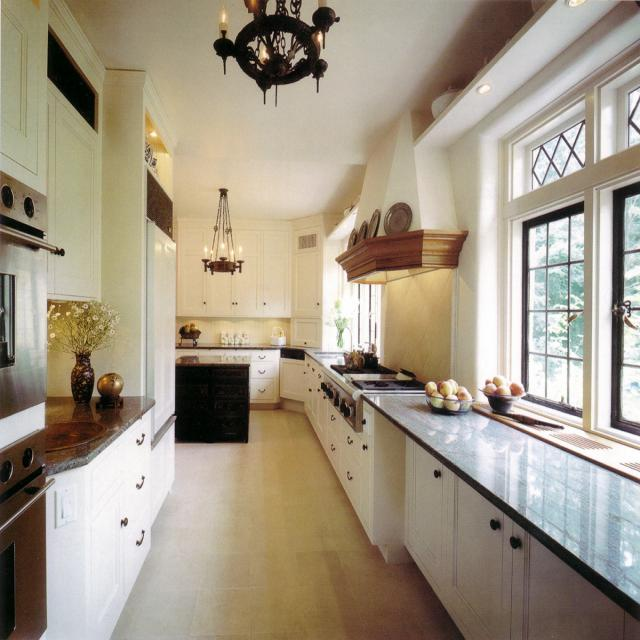2001: (522, 200, 587, 414), (612, 181, 639, 434), (531, 118, 583, 186), (627, 89, 638, 142)
2011: (353, 284, 381, 358)
basket crop: (269, 325, 286, 345)
bowl -X: (429, 84, 461, 119)
bowl of garlic: (177, 323, 201, 344)
bowl of potatoes: (478, 373, 523, 413), (422, 378, 473, 412)
cabinet door: (291, 226, 321, 315), (290, 320, 321, 348)
cabinets: (402, 437, 638, 636), (41, 408, 174, 639), (305, 353, 410, 562), (46, 79, 103, 297), (175, 215, 292, 316), (1, 0, 49, 191)
ceiling beam: (67, 1, 544, 218)
ceiling vent: (150, 130, 157, 137)
chandelier: (211, 1, 340, 107), (200, 187, 242, 274)
containers -x: (219, 331, 249, 343)
countertop: (361, 393, 639, 622), (46, 393, 155, 469), (175, 342, 289, 348)
decorative plate: (383, 201, 412, 233)
decorative plates: (347, 207, 379, 248)
dishwasher: (278, 348, 303, 401)
drawers crop: (250, 350, 279, 403)
faucet handle: (342, 323, 354, 343)
floor -X: (112, 407, 459, 639)
football trophy: (93, 370, 124, 409)
fridgerator: (145, 221, 175, 440)
island counter: (175, 354, 250, 440)
light fixture: (475, 80, 491, 94)
light switch: (55, 486, 78, 526)
mantle: (333, 227, 469, 282)
missing drawer -X: (46, 25, 98, 132)
object: (343, 202, 355, 216), (355, 346, 365, 353)
oven cloth: (0, 169, 57, 420), (1, 427, 55, 637)
plant -x: (47, 301, 117, 405)
plant basket: (331, 299, 348, 348)
shelf crop: (328, 189, 361, 240)
sink basin: (315, 353, 341, 361)
stove top: (330, 363, 425, 391)
stove vent: (320, 366, 360, 432)
teapot: (342, 348, 365, 373), (362, 346, 378, 368)
tray occluded: (44, 420, 107, 453)
vase -X: (144, 134, 152, 161)
vase -_-: (152, 157, 159, 173)
vent: (295, 232, 317, 250)
vent -x: (143, 164, 174, 241)
wall clock: (354, 1, 639, 448), (49, 0, 179, 395), (175, 318, 290, 343)
